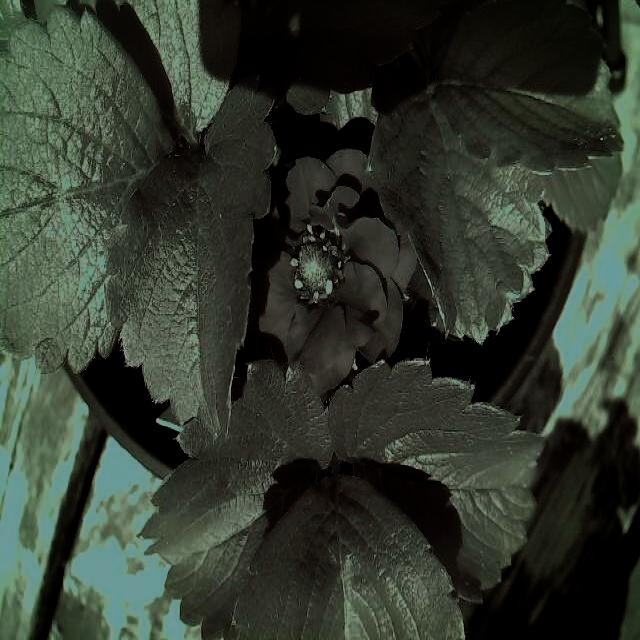flower: (230, 145, 420, 391)
